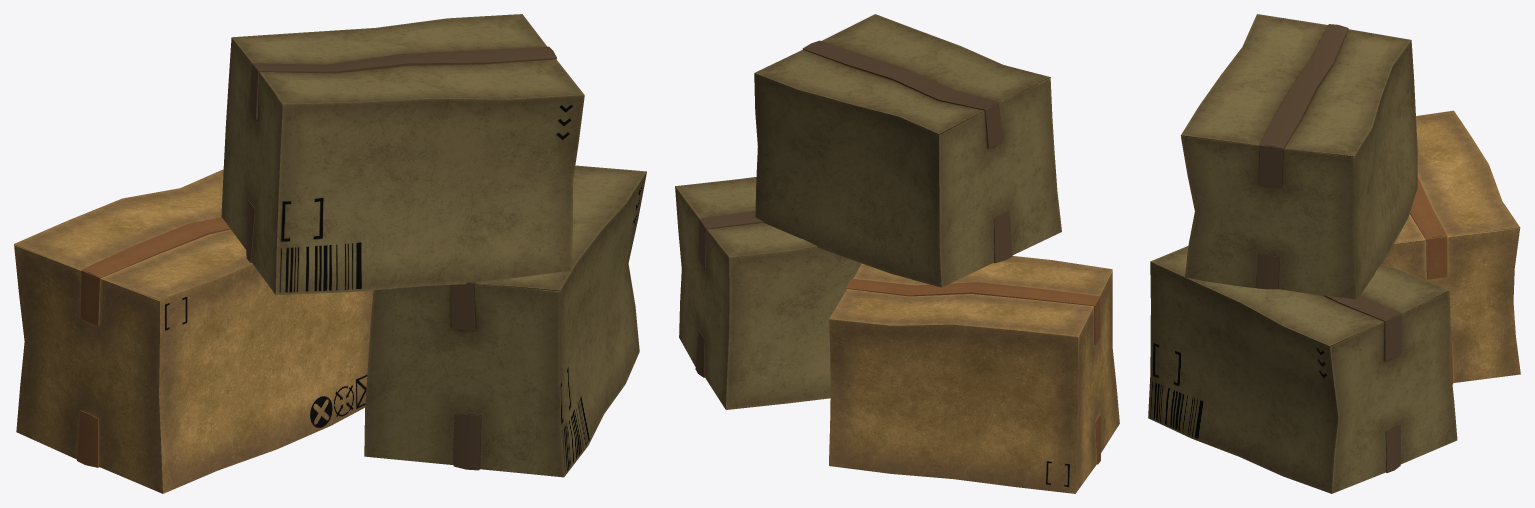
File: M_Boxes.fbx
3 renders of one model, left to right at view 1: azimuth 30°, elevation 25°; view 2: azimuth 150°, elevation 25°; view 3: azimuth 270°, elevation 25°, orthographic. The views are drawn at different scales.
Visible parts, largest first — view 1: boxes_GEO; view 2: boxes_GEO; view 3: boxes_GEO.
Boxes of the visible parts, x1,y1,x2,y2 form: boxes_GEO: (14,14,646,493); boxes_GEO: (675,14,1119,493); boxes_GEO: (1148,14,1520,493).
Size of the model in its own units: 2.47 by 1.61 by 1.71.
Materials: 2 (2 with a texture image).
